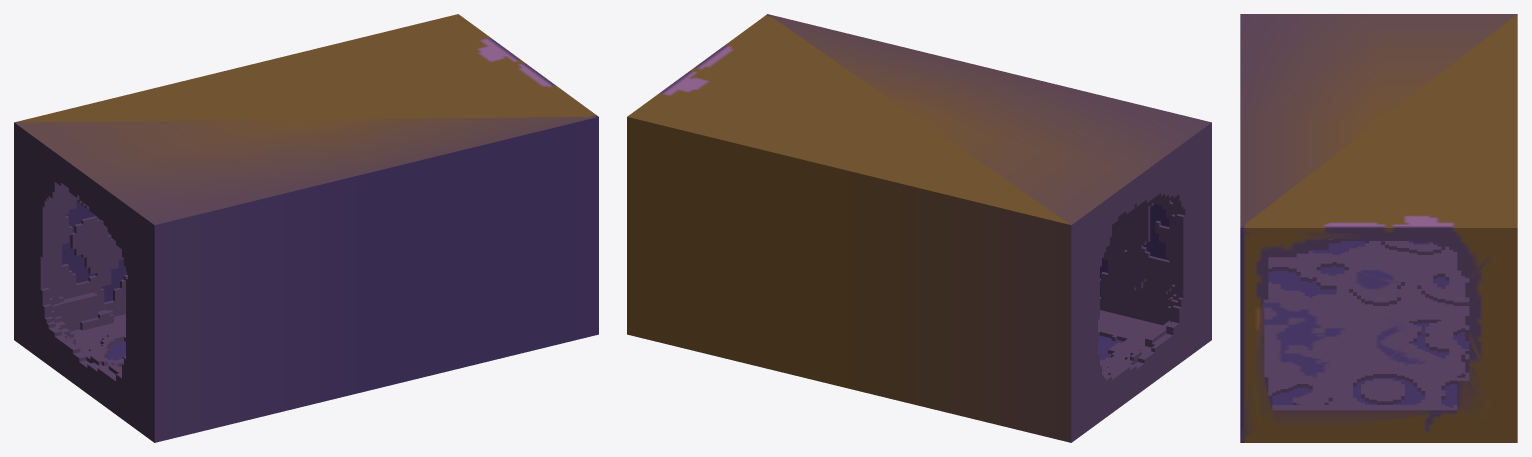
The model's file is Level3_template.dae.
3 renders of one model, left to right at view 1: azimuth 30°, elevation 25°; view 2: azimuth 150°, elevation 25°; view 3: azimuth 270°, elevation 25°, orthographic.
Visible parts, largest first — view 1: level3_template.level_3_template; view 2: level3_template.level_3_template; view 3: level3_template.level_3_template.
Boxes of the visible parts, box(x1,y1,x2,y2) form: level3_template.level_3_template: box(14, 14, 598, 442); level3_template.level_3_template: box(627, 14, 1211, 442); level3_template.level_3_template: box(1240, 14, 1517, 442).
Bounding box in the file's own units: 12.6 × 5.9 × 6.9.
1 material, 1 textured.
